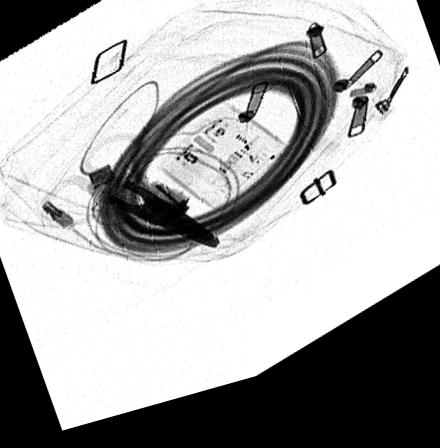Scissors: (36, 136, 225, 262)
